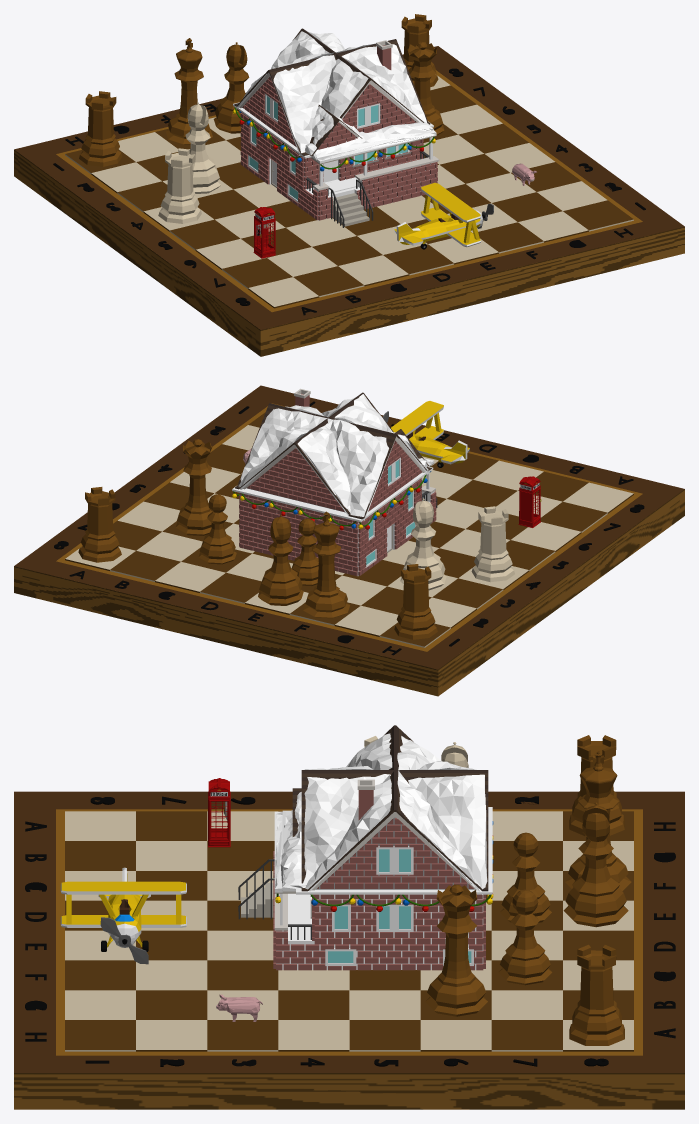
3 renders of one model, top to bottom at view 1: azimuth 30°, elevation 25°; view 2: azimuth 150°, elevation 25°; view 3: azimuth 270°, elevation 25°, orthographic. The views are drawn at different scales.
Visible parts, largest first — view 1: Cube.002, Cube.1419, VEHICLES_AIRPLANE, OBJRANDOM_PHONEBOOTH; view 2: Cube.002, Cube.1419, VEHICLES_AIRPLANE, OBJRANDOM_PHONEBOOTH; view 3: Cube.002, Cube.1419, VEHICLES_AIRPLANE, OBJRANDOM_PHONEBOOTH, ANIMAL_CERDO.
Part boxes in pixels (x1,y1,x2,y2): Cube.002: (14,14,684,356); Cube.1419: (232,28,439,227); VEHICLES_AIRPLANE: (394,182,493,249); OBJRANDOM_PHONEBOOTH: (253,207,275,258); Cube.002: (14,385,684,696); Cube.1419: (232,388,437,576); VEHICLES_AIRPLANE: (382,401,469,467); OBJRANDOM_PHONEBOOTH: (518,476,541,527); Cube.002: (14,735,684,1109); Cube.1419: (238,725,493,970); VEHICLES_AIRPLANE: (60,867,186,964); OBJRANDOM_PHONEBOOTH: (208,778,230,847); ANIMAL_CERDO: (216,994,262,1021).
Size of the model in its own units: 3981 by 1585 by 4012.
51 materials, 2 textured.
